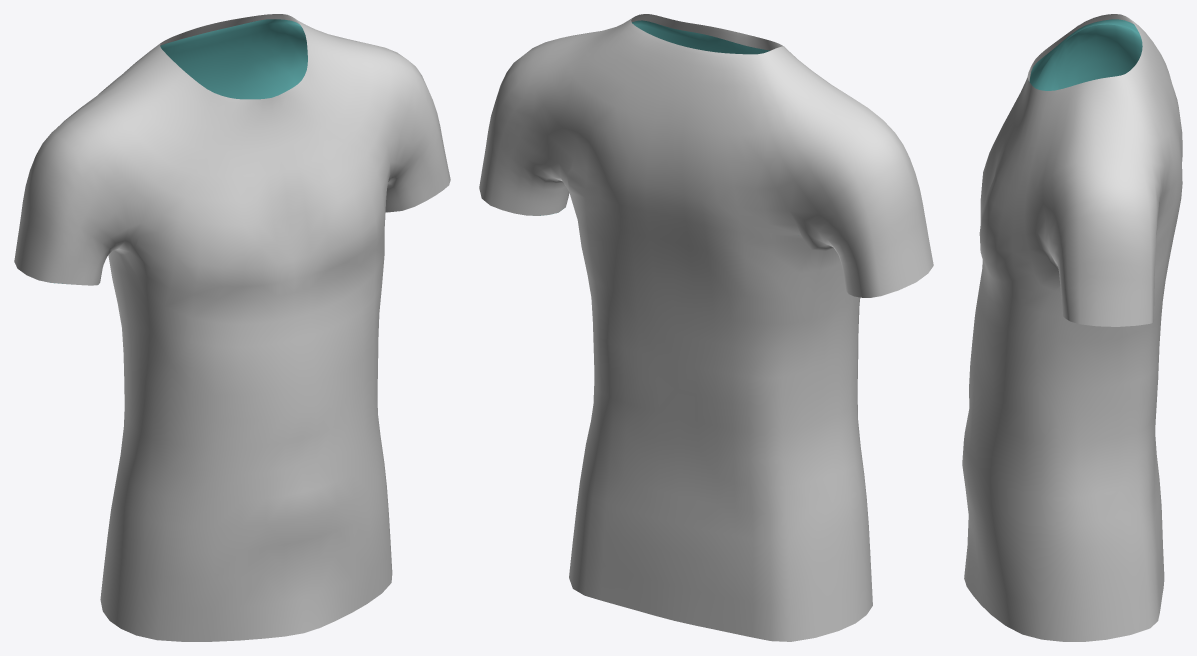
The picture shows the model from 3 angles, left to right: view 1: azimuth 30°, elevation 25°; view 2: azimuth 150°, elevation 25°; view 3: azimuth 270°, elevation 25°; orthographic projection. The views are drawn at different scales.
Parts seen in each view (by area): view 1: 2P8S2S; view 2: 2P8S2S; view 3: 2P8S2S.
Part boxes in pixels (x1,y1,x2,y2): 2P8S2S: [14, 14, 450, 641]; 2P8S2S: [479, 14, 933, 641]; 2P8S2S: [962, 14, 1182, 641].
Size of the model in its own units: 0.7893 by 0.9805 by 0.3676.
